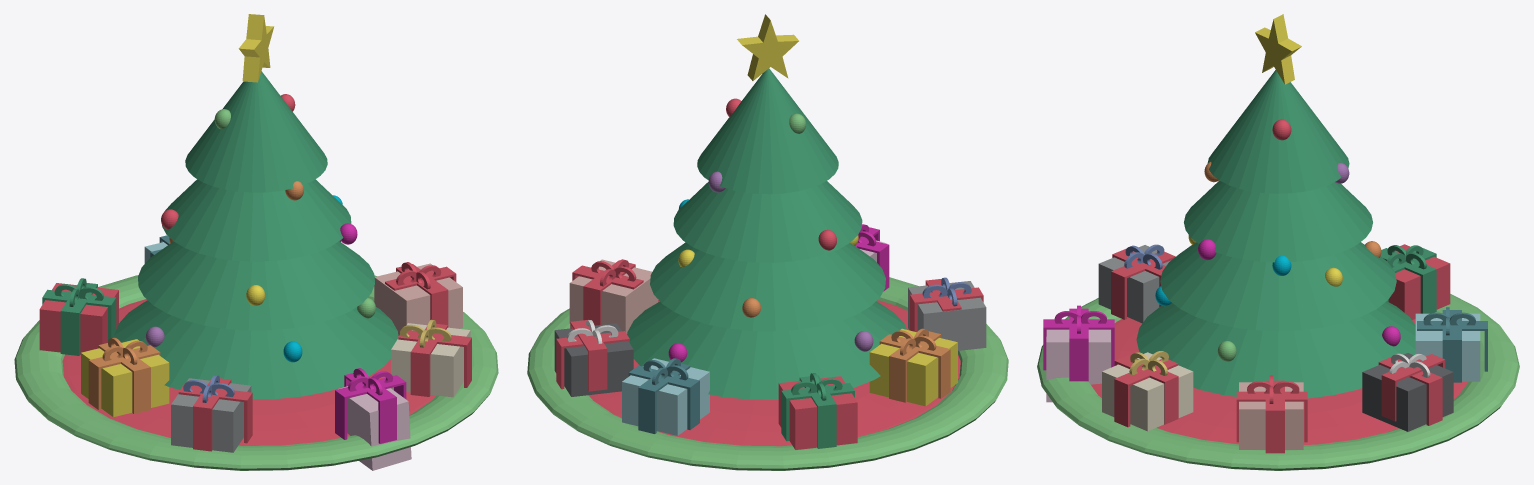
The model's file is Copy of Christmas Tree.glb.
3 views of the same model, side by side, from view 1: azimuth 30°, elevation 25°; view 2: azimuth 150°, elevation 25°; view 3: azimuth 270°, elevation 25° (orthographic).
Parts seen in each view (by area): view 1: Mesh_Mesh_head_geo.001_lambert2SG.001; view 2: Mesh_Mesh_head_geo.001_lambert2SG.001; view 3: Mesh_Mesh_head_geo.001_lambert2SG.001.
Boxes of the visible parts, x1,y1,x2,y2 form: Mesh_Mesh_head_geo.001_lambert2SG.001: (14, 14, 498, 470); Mesh_Mesh_head_geo.001_lambert2SG.001: (527, 14, 1008, 470); Mesh_Mesh_head_geo.001_lambert2SG.001: (1037, 14, 1519, 470).
Size of the model in its own units: 0.15 by 0.1266 by 0.15.
